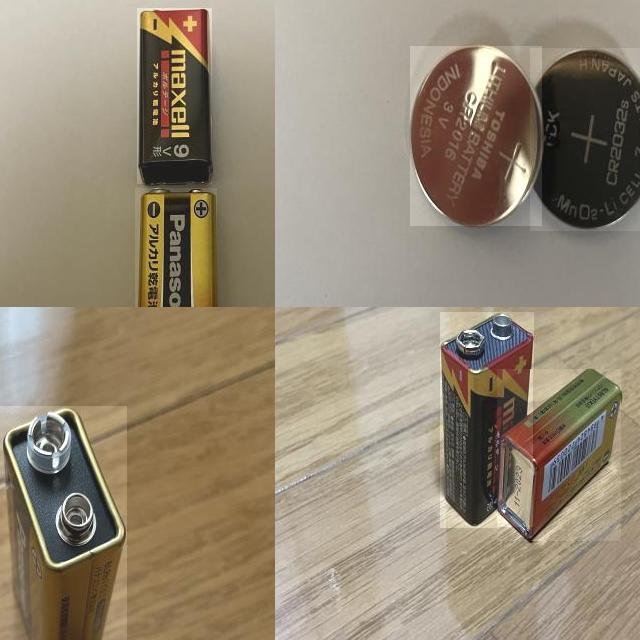9V: (0, 406, 127, 640), (498, 370, 622, 542), (440, 312, 534, 528), (137, 8, 212, 184), (135, 188, 217, 307)
